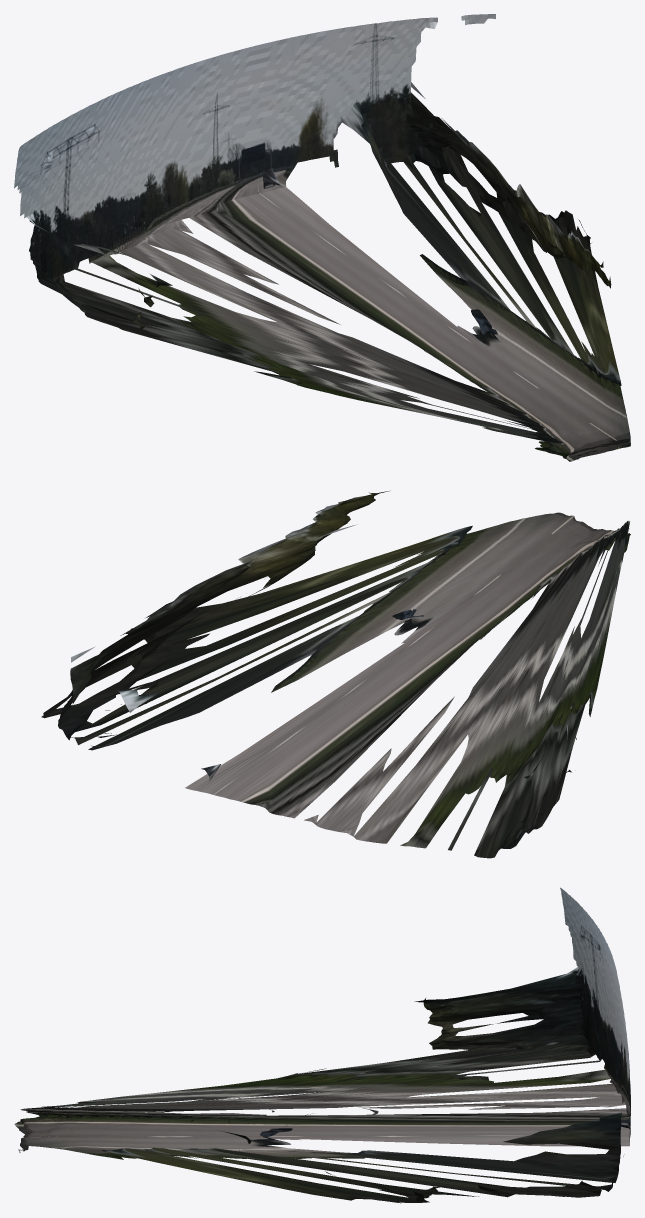
3 renders of one model, top to bottom at view 1: azimuth 30°, elevation 25°; view 2: azimuth 150°, elevation 25°; view 3: azimuth 270°, elevation 25°, orthographic. The views are drawn at different scales.
Visible parts, largest first — view 1: defaultobject; view 2: defaultobject; view 3: defaultobject.
Part boxes in pixels (x1,y1,x2,y2): defaultobject: (14,14,630,461); defaultobject: (41,490,630,858); defaultobject: (14,887,630,1203).
Bounding box in the file's own units: 36.45 × 12.33 × 44.72.
Materials: 1 (1 with a texture image).
